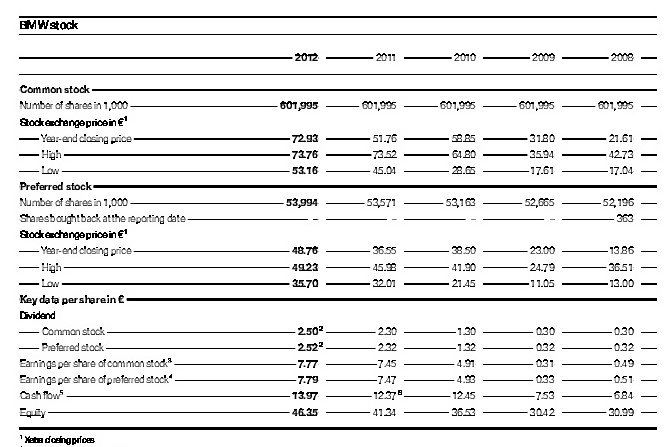table: (0, 0, 670, 447)
